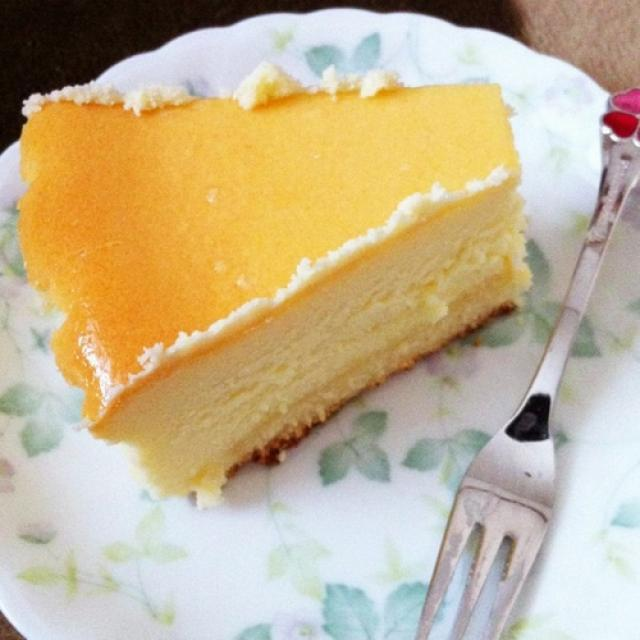Rare cheese cake: (13, 54, 561, 500)
